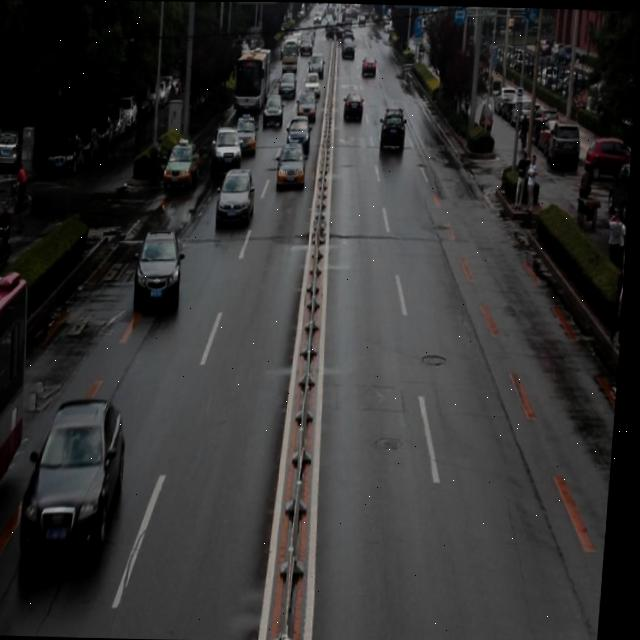car: (24, 398, 134, 554), (136, 231, 188, 305), (216, 165, 258, 226), (166, 132, 203, 184), (212, 125, 244, 173), (276, 141, 309, 187), (378, 106, 407, 153), (234, 112, 259, 155), (287, 114, 313, 155), (263, 93, 284, 129), (343, 90, 364, 123), (296, 90, 318, 121)
van: (0, 271, 38, 559)
